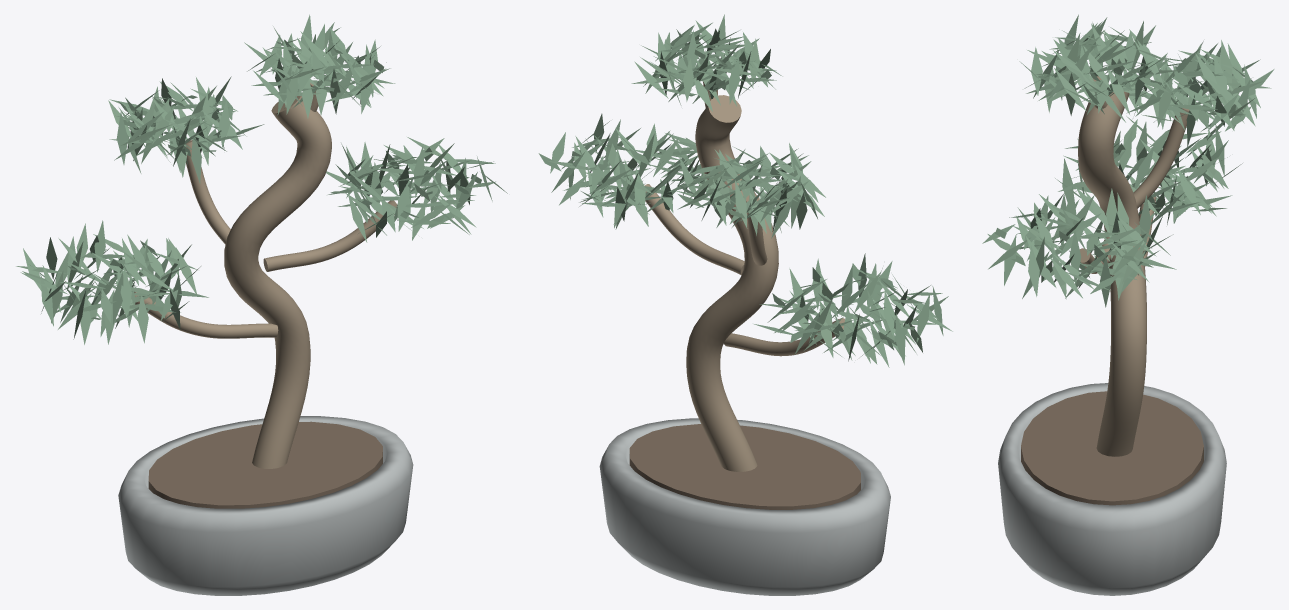
File: sg_bonsai.glb
3 renders of one model, left to right at view 1: azimuth 30°, elevation 25°; view 2: azimuth 150°, elevation 25°; view 3: azimuth 270°, elevation 25°, orthographic. The views are drawn at different scales.
Visible parts, largest first — view 1: pot, trunk, soil, pad0, pad1, pad3, pad2, branch0, branch1, branch2; view 2: pot, soil, trunk, pad0, pad1, pad2, pad3, branch1, branch0, branch2; view 3: pot, soil, pad1, trunk, pad3, pad2, pad0, branch2.
Part boxes in pixels (bbox=[...]): pot: bbox=[118, 416, 413, 595]; trunk: bbox=[224, 96, 331, 468]; soil: bbox=[148, 421, 382, 508]; pad0: bbox=[16, 220, 208, 344]; pad1: bbox=[326, 137, 507, 242]; pad3: bbox=[244, 14, 395, 118]; pad2: bbox=[108, 76, 264, 183]; branch0: bbox=[134, 291, 278, 338]; branch1: bbox=[263, 200, 397, 271]; branch2: bbox=[186, 140, 230, 244]; pot: bbox=[599, 418, 890, 595]; soil: bbox=[629, 424, 860, 509]; trunk: bbox=[686, 95, 778, 471]; pad0: bbox=[754, 253, 952, 367]; pad1: bbox=[538, 113, 710, 229]; pad2: bbox=[668, 143, 825, 238]; pad3: bbox=[631, 14, 782, 111]; branch1: bbox=[644, 184, 744, 274]; branch0: bbox=[724, 318, 844, 356]; branch2: bbox=[746, 194, 767, 265]; pot: bbox=[998, 383, 1226, 595]; soil: bbox=[1021, 391, 1203, 505]; pad1: bbox=[982, 186, 1176, 307]; trunk: bbox=[1078, 91, 1146, 456]; pad3: bbox=[1019, 14, 1180, 122]; pad2: bbox=[1121, 40, 1274, 147]; pad0: bbox=[1055, 116, 1242, 224]; branch2: bbox=[1133, 108, 1189, 208].
Bounding box in the file's own units: 0.6292 × 0.7127 × 0.3583.
